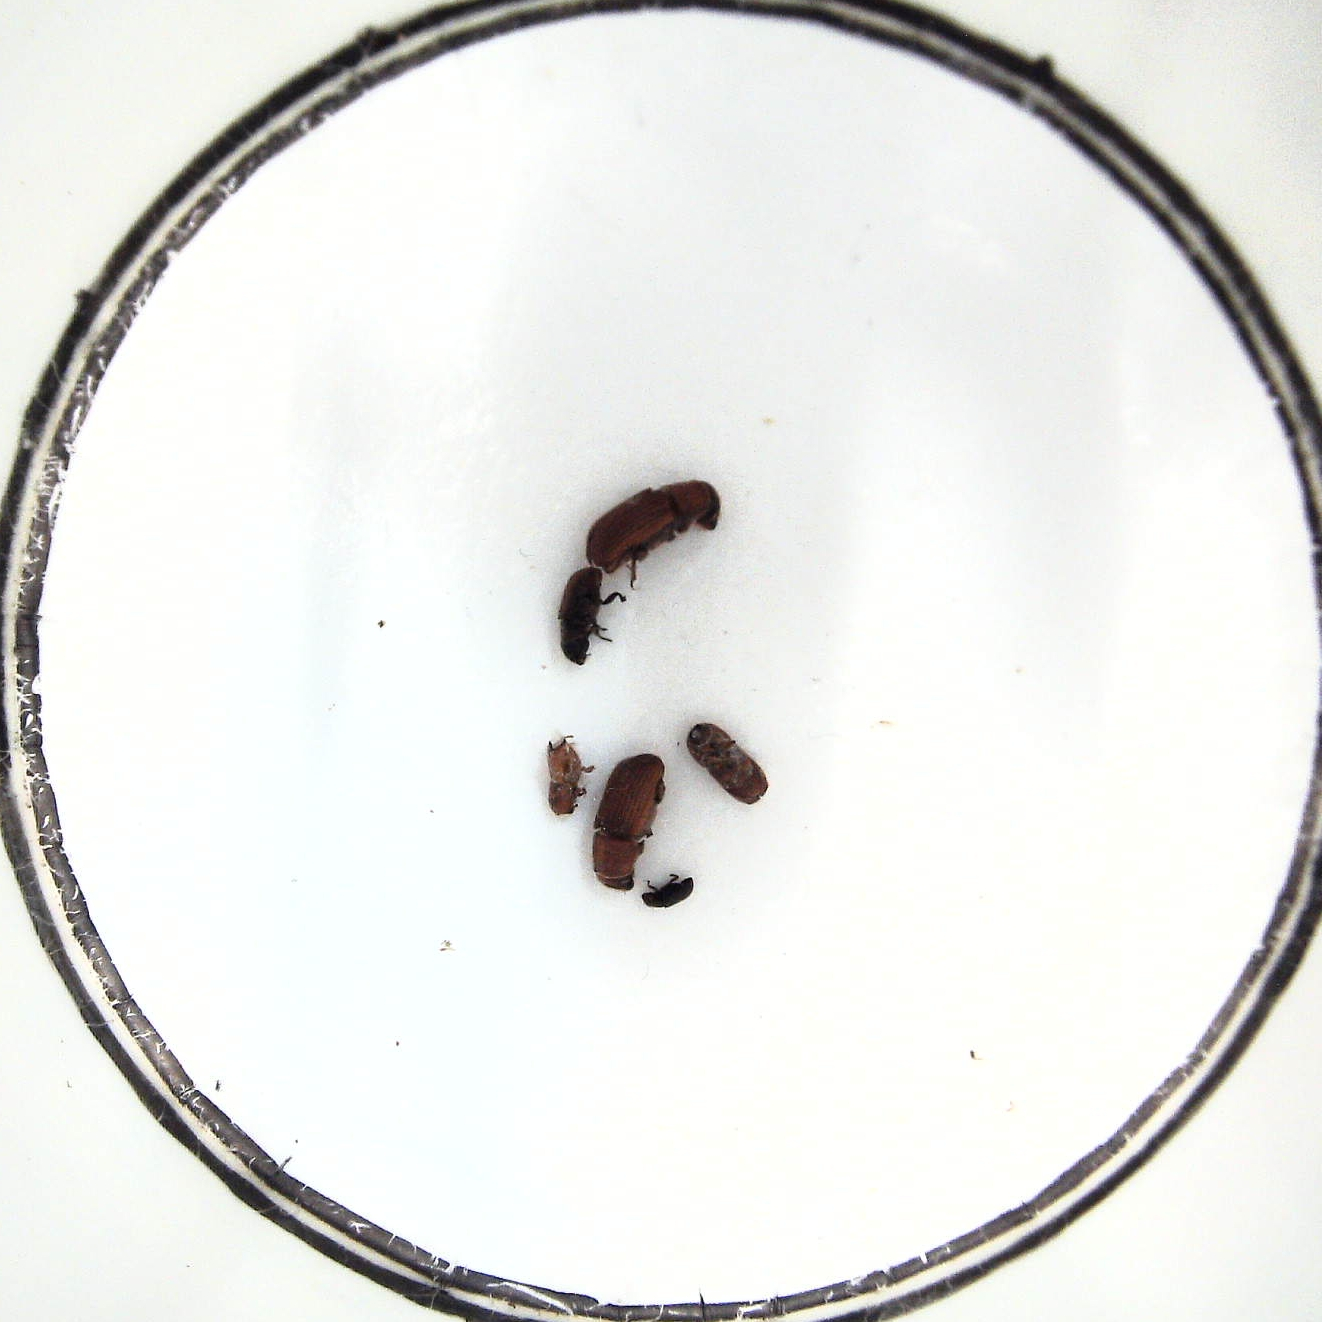Leconte: (585, 479, 723, 571), (588, 751, 663, 893)
Linnaeus: (686, 720, 774, 807)
acuminatus: (546, 734, 593, 818)
armandi: (557, 567, 626, 663)
coleoptera: (639, 872, 692, 910)
